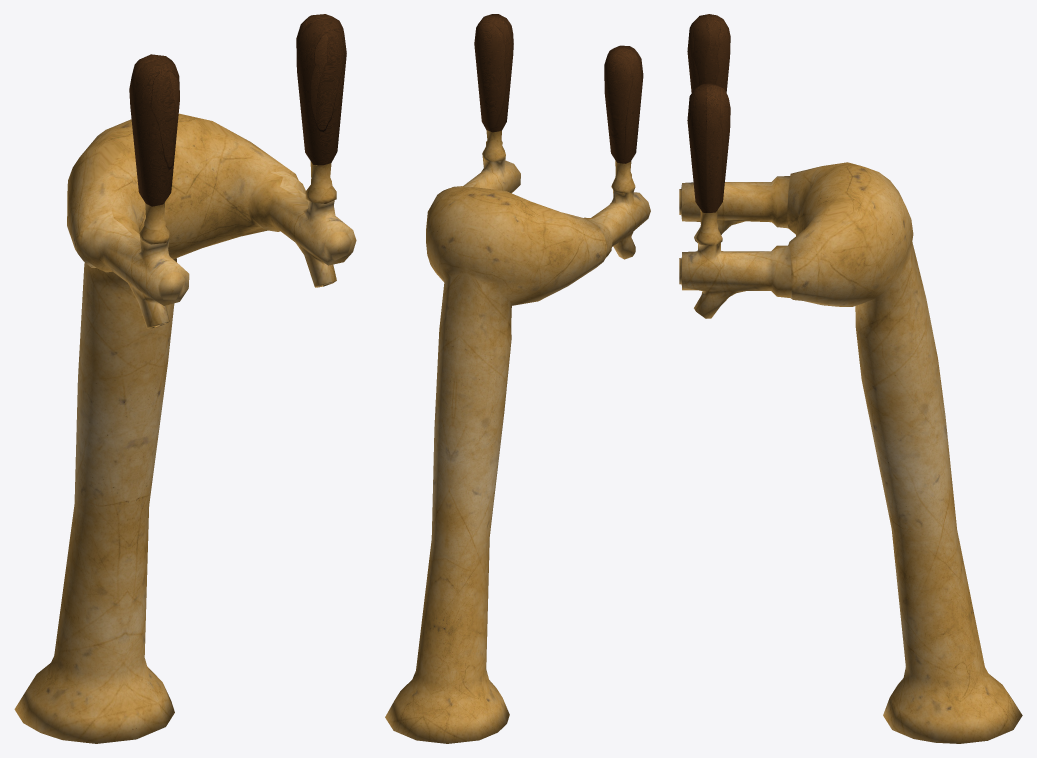
The model's file is Spillatore.fbx.
3 renders of one model, left to right at view 1: azimuth 30°, elevation 25°; view 2: azimuth 150°, elevation 25°; view 3: azimuth 270°, elevation 25°, orthographic. The views are drawn at different scales.
Parts seen in each view (by area): view 1: beer; view 2: beer; view 3: beer.
Part boxes in pixels (<box>): beer: <box>14,14,356,743</box>; beer: <box>385,14,650,743</box>; beer: <box>679,14,1022,743</box>.
Size of the model in its own units: 57.33 by 190 by 89.34.
